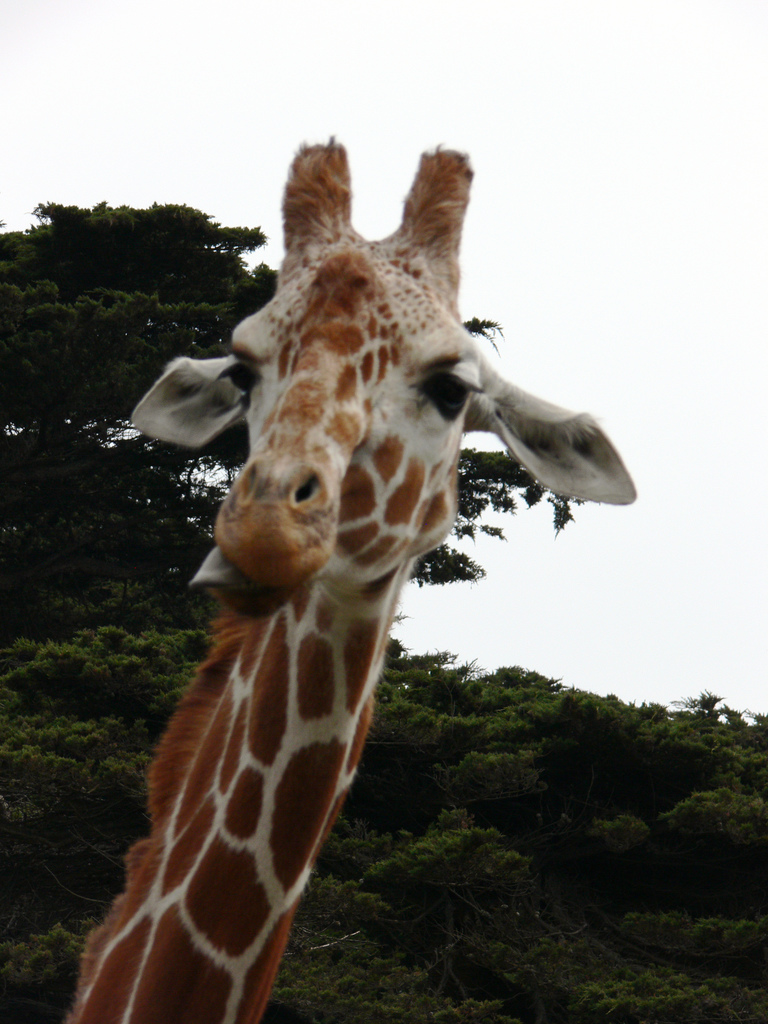giraffe: (63, 146, 626, 995)
